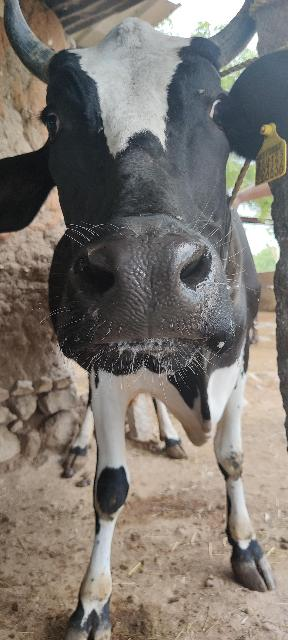Muzzle: (88, 248, 204, 340)
